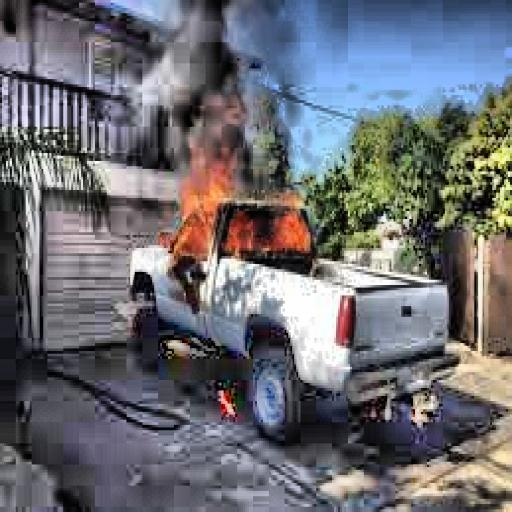fire: (156, 161, 320, 280)
